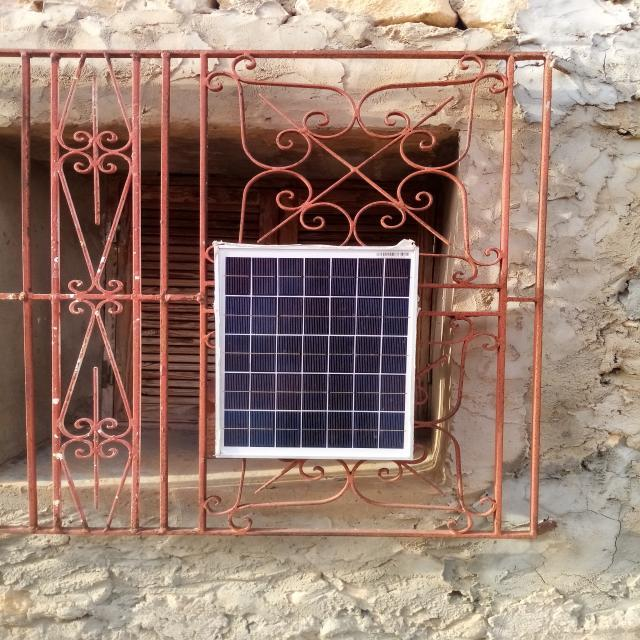no faulty: (216, 245, 418, 458)
